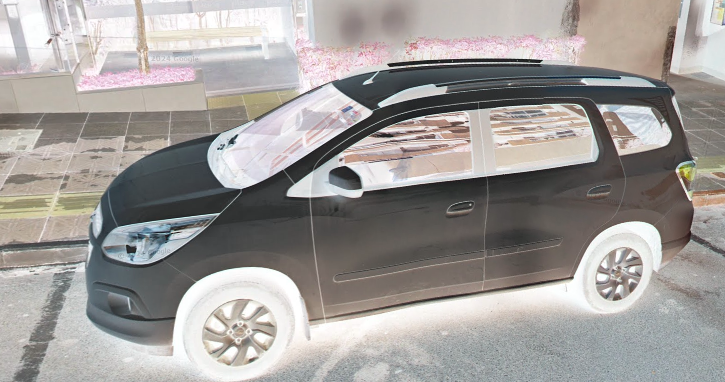car: (86, 59, 696, 378)
